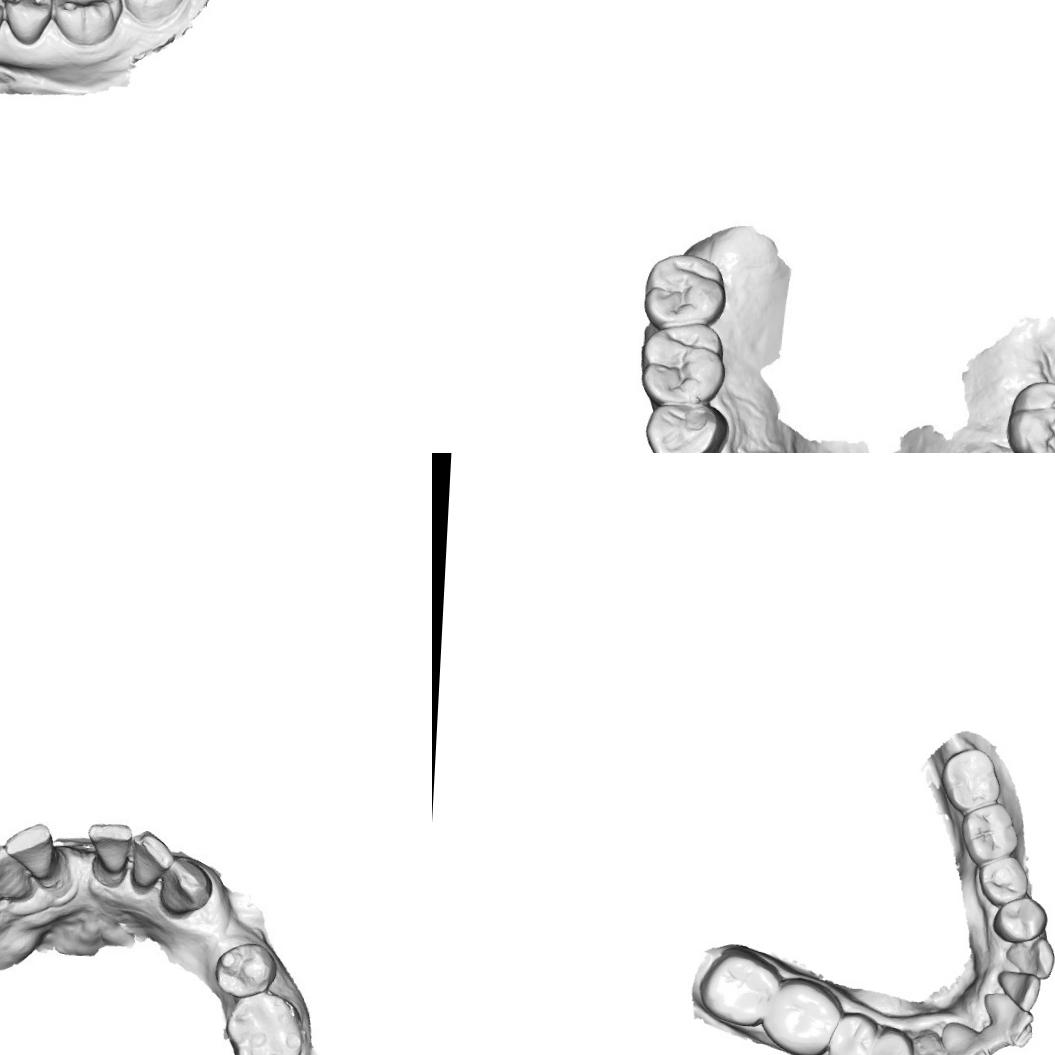canine: (156, 850, 215, 920), (0, 839, 42, 907), (1002, 933, 1055, 979), (904, 1026, 954, 1055)
incisor: (0, 818, 57, 882), (978, 989, 1036, 1048), (84, 815, 131, 883), (126, 828, 174, 892), (993, 968, 1042, 1012), (936, 1018, 992, 1055)
molar: (692, 945, 780, 1028), (759, 974, 845, 1055), (637, 323, 724, 403), (644, 252, 722, 321), (227, 989, 301, 1055), (938, 744, 1002, 815), (957, 799, 1020, 867), (46, 0, 124, 49), (1014, 382, 1055, 453), (114, 0, 189, 28)
premolar: (643, 395, 725, 453), (211, 940, 278, 999), (972, 852, 1031, 908), (990, 892, 1048, 947), (823, 1009, 879, 1055), (1, 0, 55, 47), (865, 1023, 914, 1055)
